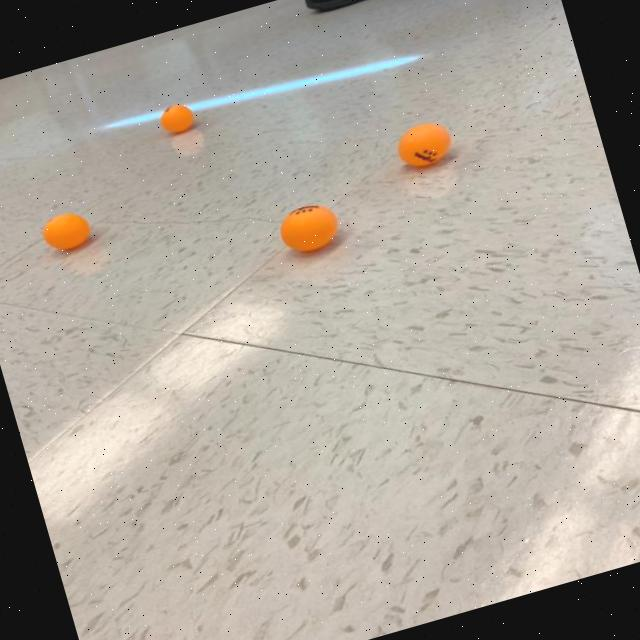ping-pong-ball: (270, 194, 346, 260), (388, 116, 458, 174), (36, 204, 96, 256), (152, 98, 198, 140)
